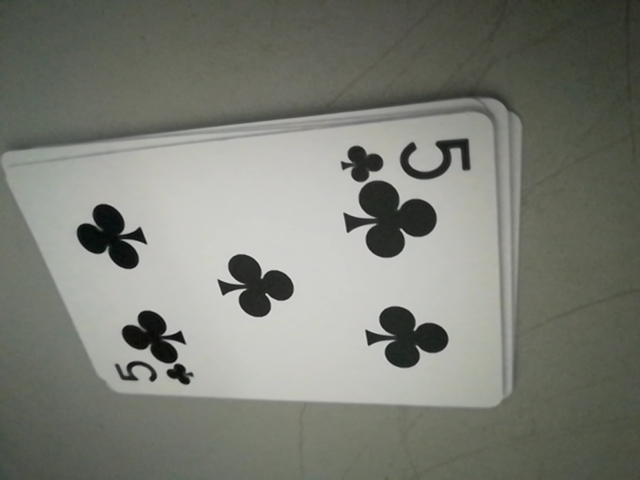mh 5: (337, 127, 474, 181), (110, 358, 195, 392)
